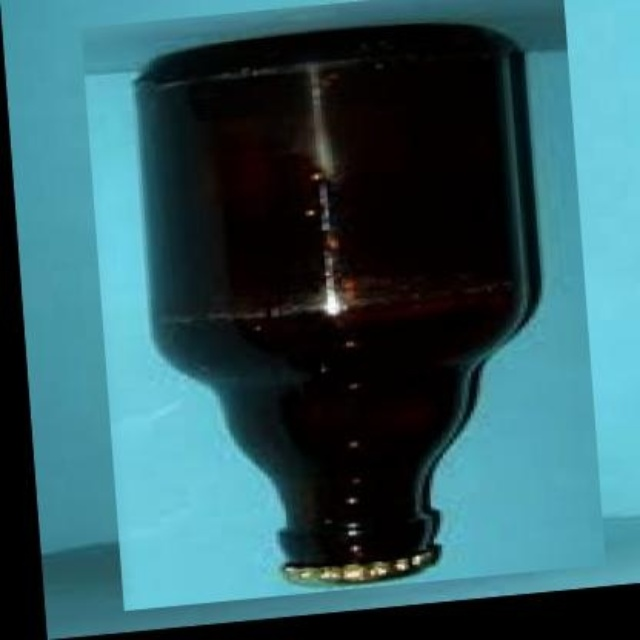trash: (137, 25, 538, 582)
